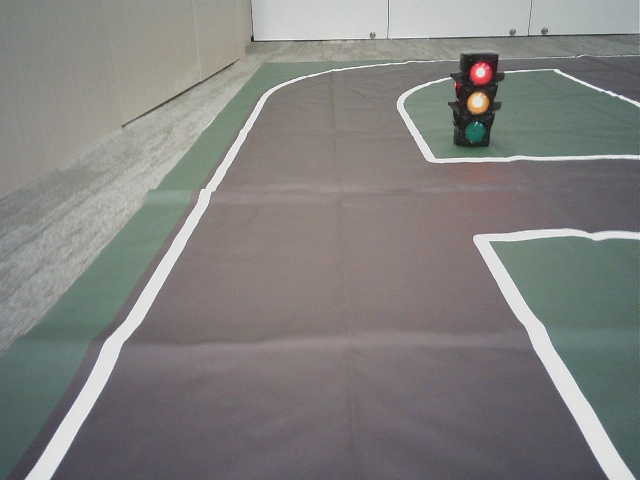red: (463, 55, 491, 145)
